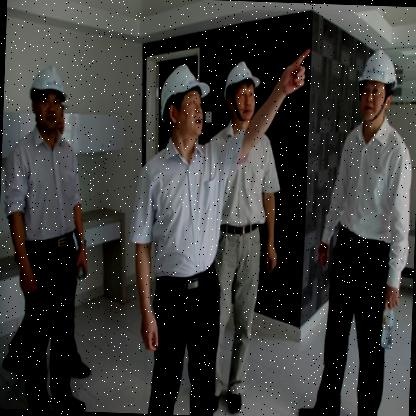capacete: (157, 62, 213, 143), (354, 45, 402, 126), (26, 63, 68, 134), (222, 58, 264, 126)
sem_colete_refletivo: (126, 124, 251, 284), (319, 112, 415, 250), (201, 112, 285, 254), (0, 121, 89, 253)
